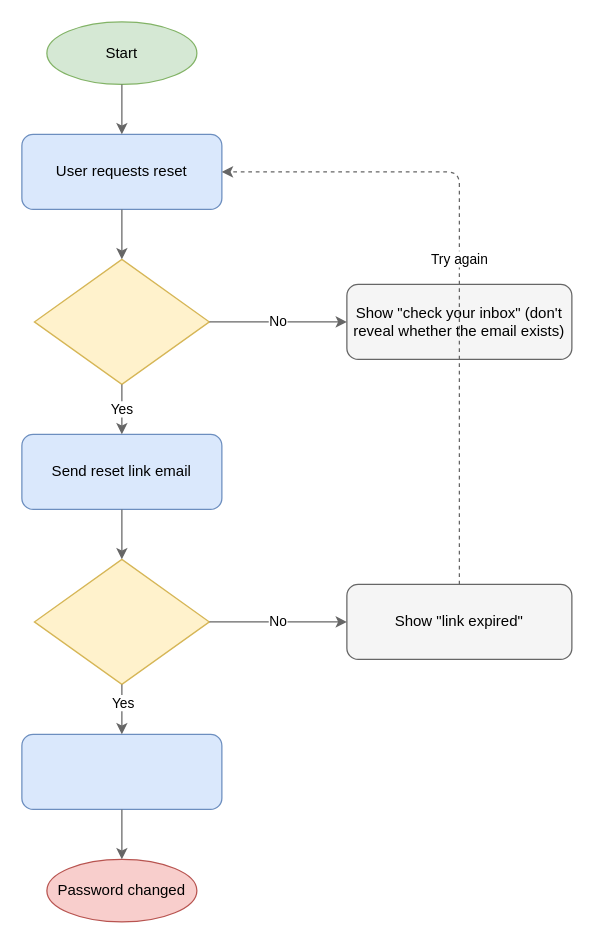
Some shapes in this 594 by 944 pixel diagram are drawn without their labels. Each missing label, with the centre of its shape:
"Email registered?" belongs at [121,321].
"Link used within 1 hour?" belongs at [121,621].
"Set new password" belongs at [121,771].
